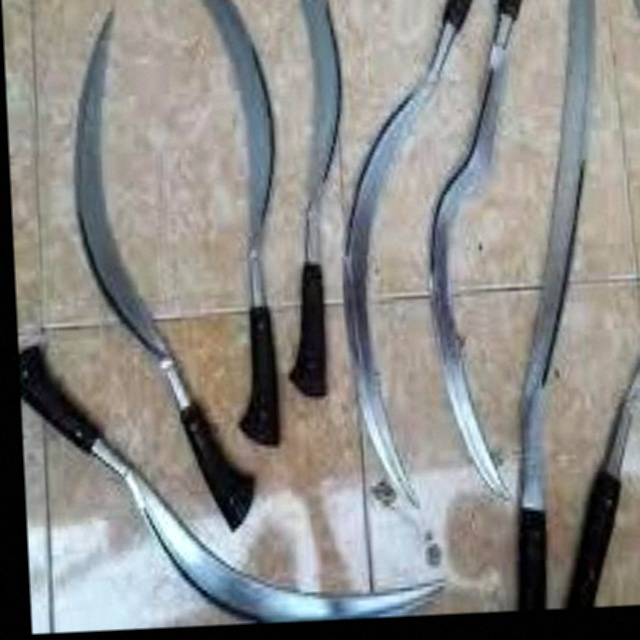Sharp-Object: (18, 327, 449, 629), (51, 0, 272, 539), (329, 0, 534, 542), (541, 0, 640, 605)
